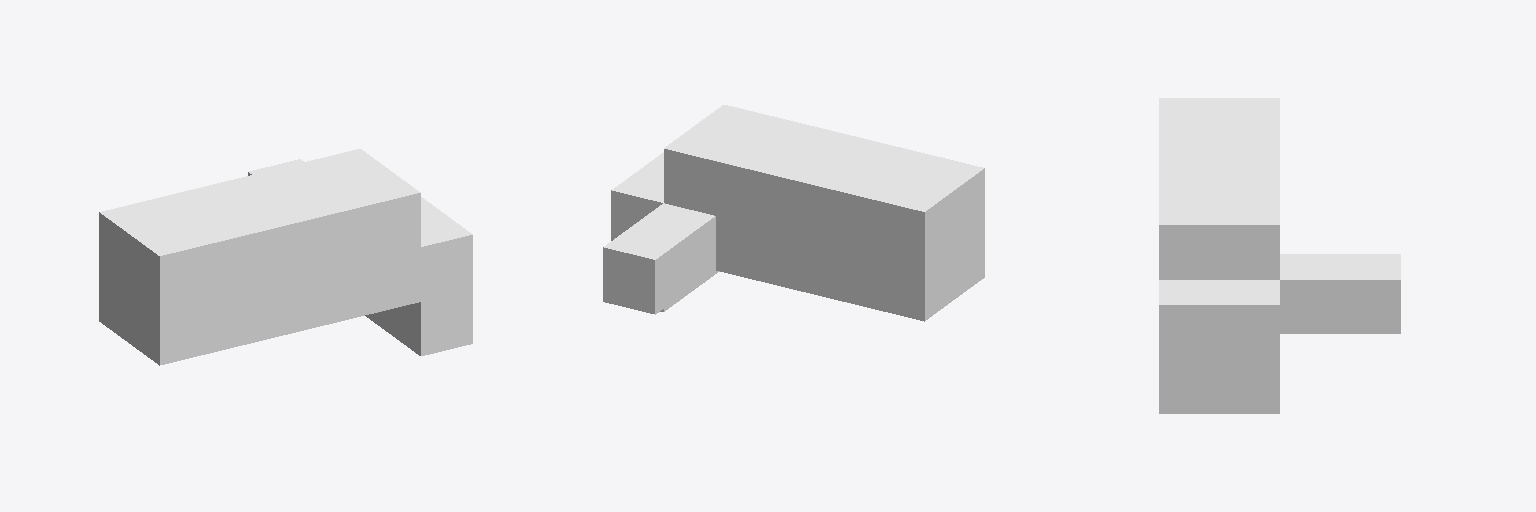
File: BRAS-R.obj
3 renders of one model, left to right at view 1: azimuth 30°, elevation 25°; view 2: azimuth 150°, elevation 25°; view 3: azimuth 270°, elevation 25°, orthographic.
Visible parts, largest first — view 1: object 1; view 2: object 1; view 3: object 1.
Boxes of the visible parts, x1,y1,x2,y2 form: object 1: [99, 149, 472, 365]; object 1: [603, 105, 984, 321]; object 1: [1159, 98, 1400, 413].
Bounding box in the file's own units: 0.6 × 0.3 × 0.4.